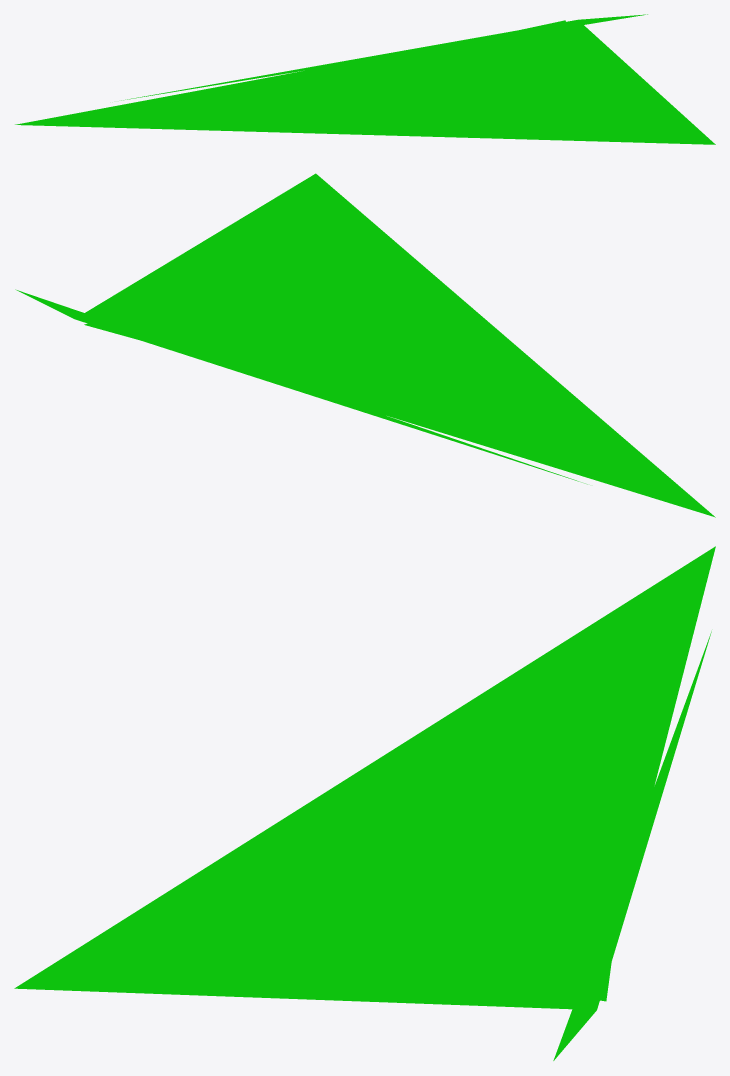
The picture shows the model from 3 angles, top to bottom: view 1: azimuth 30°, elevation 25°; view 2: azimuth 150°, elevation 25°; view 3: azimuth 270°, elevation 25°; orthographic projection. The views are drawn at different scales.
Size of the model in its own units: 190 by 0 by 109.
